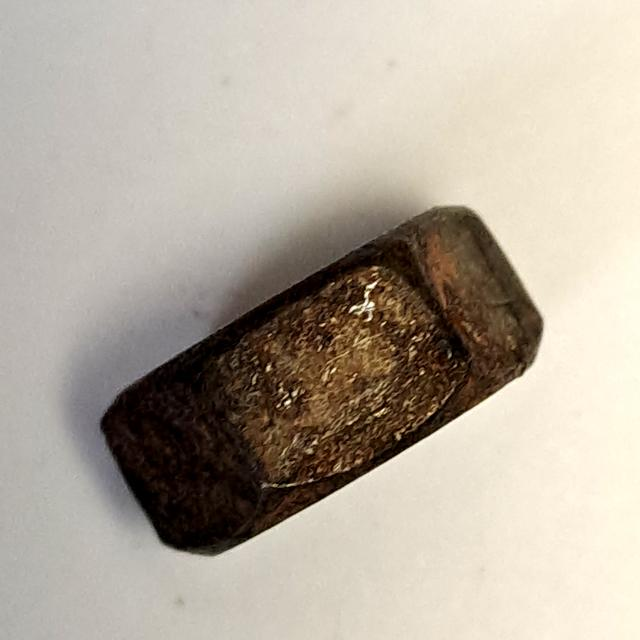Side_Rust: (81, 190, 559, 576)
